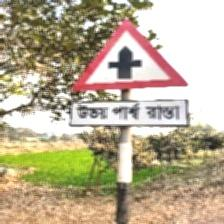Crossroad: (69, 19, 193, 129)
